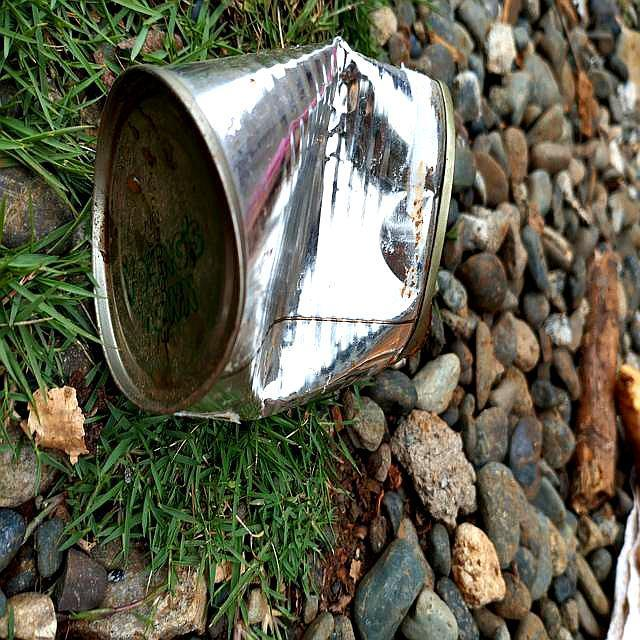Non-biodegradable: (89, 36, 459, 424)
